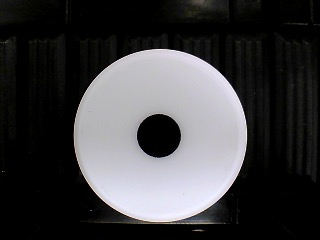BOHO: (73, 48, 248, 223)
